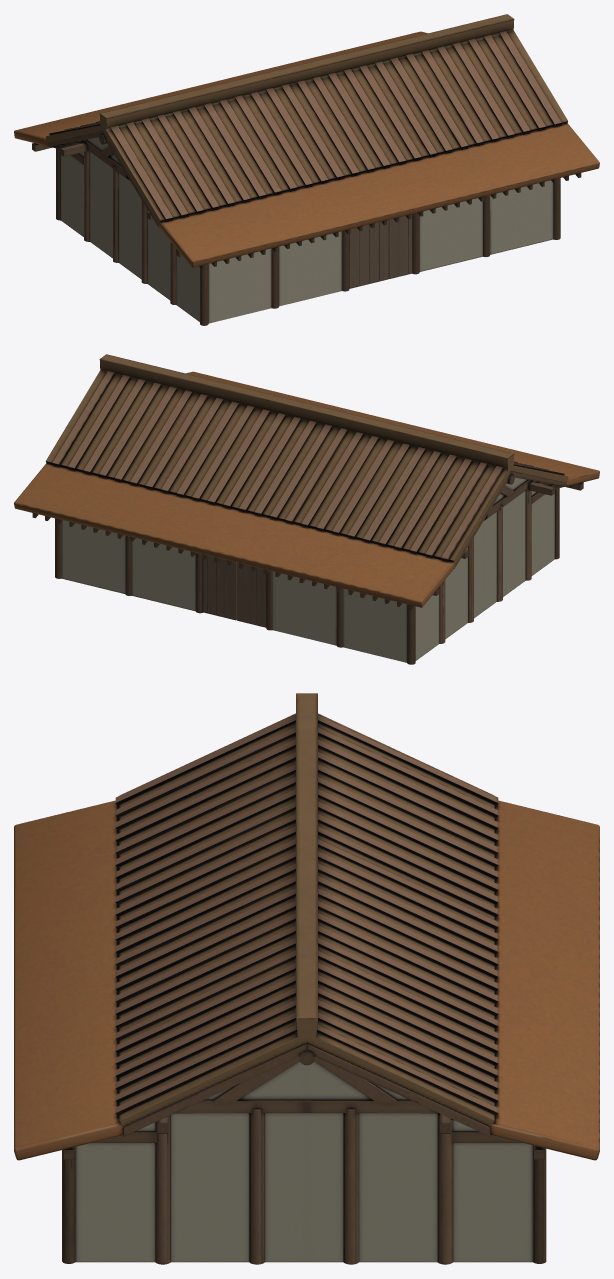
Rendered from higashiya.glb.
3 views of the same model, one above another, from view 1: azimuth 30°, elevation 25°; view 2: azimuth 150°, elevation 25°; view 3: azimuth 270°, elevation 25° (orthographic). The views are drawn at different scales.
Parts seen in each view (by area): view 1: higashiya; view 2: higashiya; view 3: higashiya.
Part boxes in pixels (bbox=[...]): higashiya: bbox=[14, 14, 599, 325]; higashiya: bbox=[14, 354, 599, 664]; higashiya: bbox=[14, 693, 599, 1264].
Size of the model in its own units: 14 by 5.27 by 10.58.
1 material, 1 textured.
